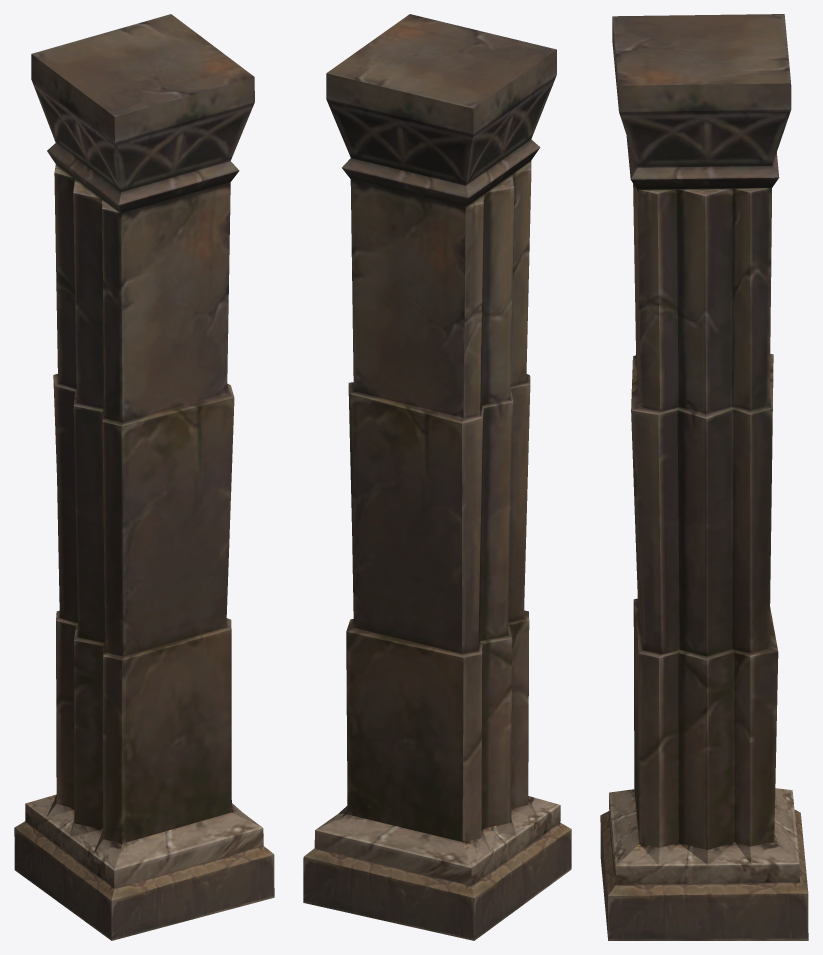
File: blsd_bszhuzi_02.FBX
3 renders of one model, left to right at view 1: azimuth 30°, elevation 25°; view 2: azimuth 150°, elevation 25°; view 3: azimuth 270°, elevation 25°, orthographic. The views are drawn at different scales.
Parts seen in each view (by area): view 1: blsd_bszhuzi_02; view 2: blsd_bszhuzi_02; view 3: blsd_bszhuzi_02.
Boxes of the visible parts, <box> form: blsd_bszhuzi_02: <box>14,14,274,940</box>; blsd_bszhuzi_02: <box>303,14,571,940</box>; blsd_bszhuzi_02: <box>600,14,808,940</box>.
Bounding box in the file's own units: 152 × 159 × 717.
